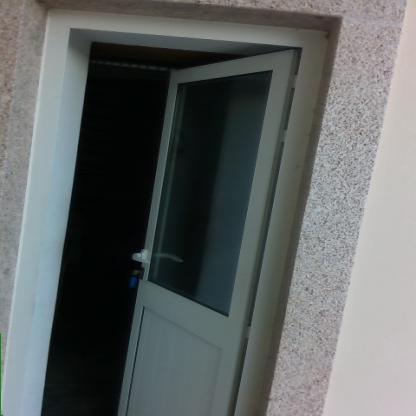semi: (48, 21, 315, 416)
